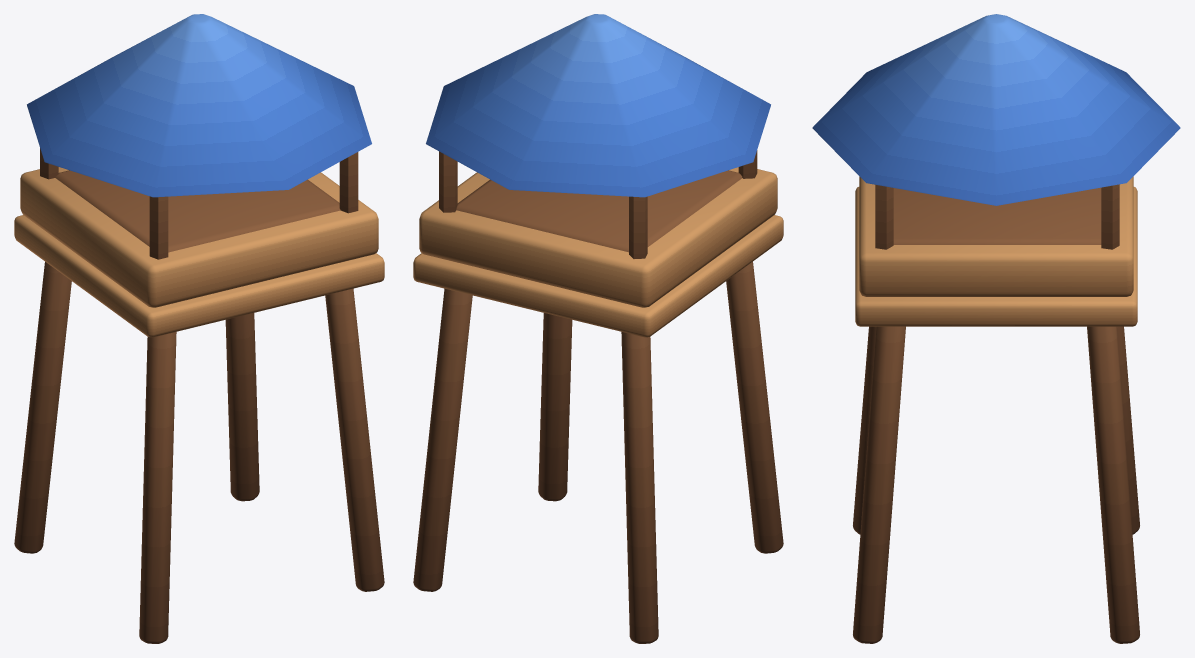
Rendered from towerB.glb.
The picture shows the model from 3 angles, left to right: view 1: azimuth 30°, elevation 25°; view 2: azimuth 150°, elevation 25°; view 3: azimuth 270°, elevation 25°; orthographic projection. The views are drawn at different scales.
Parts seen in each view (by area): view 1: towerB; view 2: towerB; view 3: towerB.
Part boxes in pixels (x1,y1,x2,y2): towerB: (14, 14, 384, 643); towerB: (413, 14, 783, 643); towerB: (812, 14, 1180, 643).
Size of the model in its own units: 0.9132 by 1.55 by 0.9132.
1 material, 1 textured.
